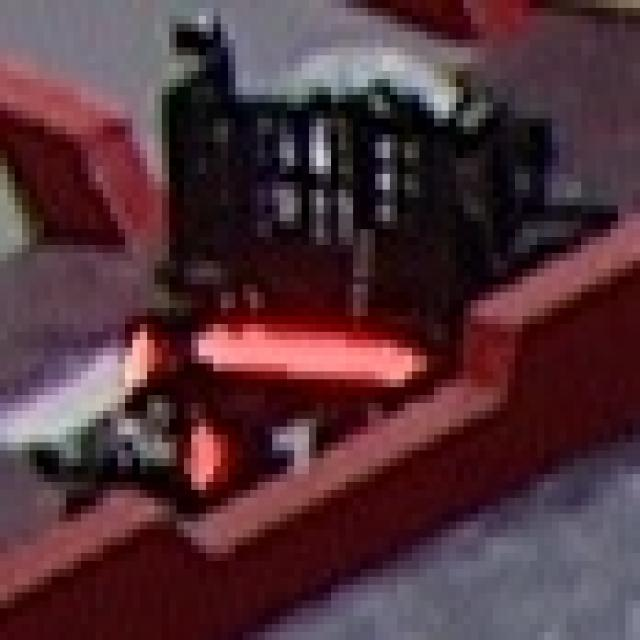R1: (176, 407, 316, 510)
